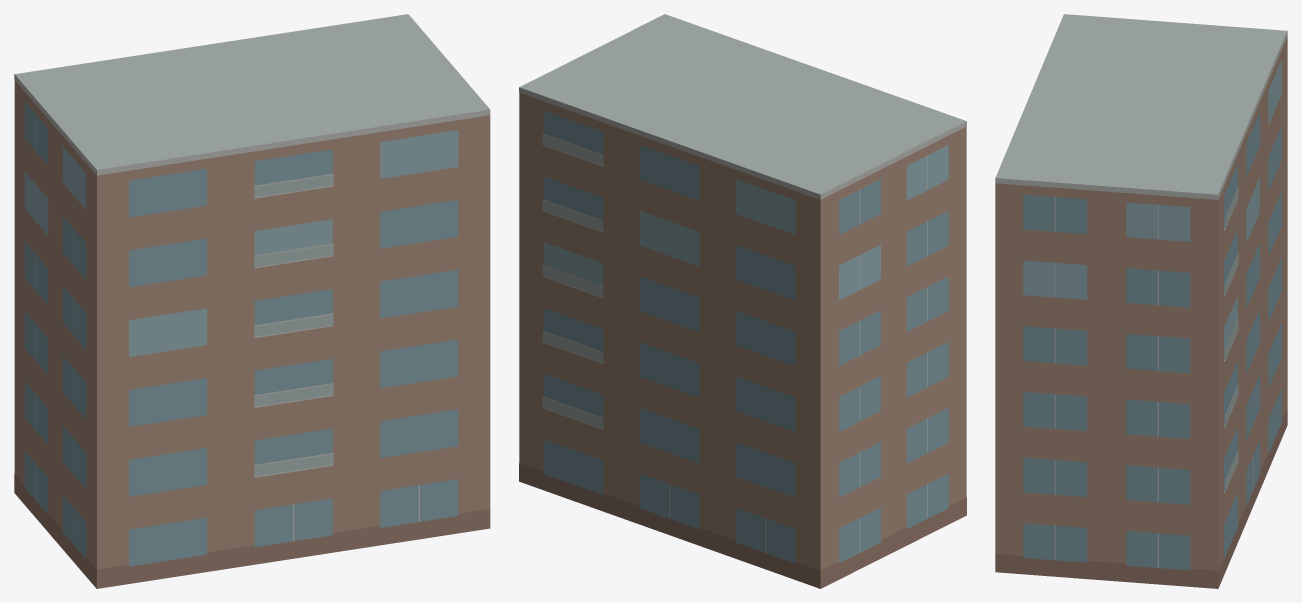
The model's file is survey-upis-32635508.glb.
The picture shows the model from 3 angles, left to right: view 1: azimuth 30°, elevation 25°; view 2: azimuth 150°, elevation 25°; view 3: azimuth 270°, elevation 25°; orthographic projection. The views are drawn at different scales.
Visible parts, largest first — view 1: survey-upis-32635508.tmp; view 2: survey-upis-32635508.tmp; view 3: survey-upis-32635508.tmp.
Part boxes in pixels (bbox=[...]): survey-upis-32635508.tmp: bbox=[14, 14, 490, 588]; survey-upis-32635508.tmp: bbox=[519, 14, 966, 588]; survey-upis-32635508.tmp: bbox=[995, 14, 1287, 588].
Size of the model in its own units: 18.01 by 18.3 by 12.31.
